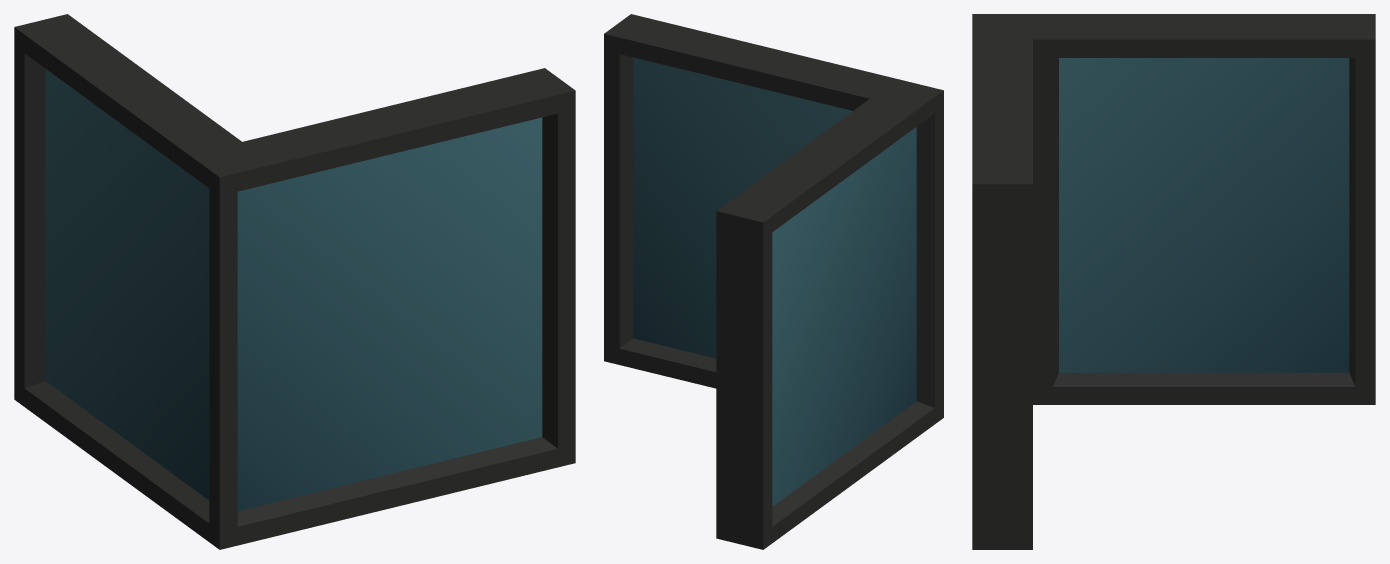
File: shortWindowDarkCorner.fbx
3 renders of one model, left to right at view 1: azimuth 30°, elevation 25°; view 2: azimuth 150°, elevation 25°; view 3: azimuth 270°, elevation 25°, orthographic. The views are drawn at different scales.
Parts seen in each view (by area): view 1: shortWindowDarkCorner; view 2: shortWindowDarkCorner; view 3: shortWindowDarkCorner.
Part boxes in pixels (x1=…): shortWindowDarkCorner: x1=14, y1=14, x2=575, y2=549; shortWindowDarkCorner: x1=604, y1=14, x2=943, y2=549; shortWindowDarkCorner: x1=972, y1=14, x2=1375, y2=549.
Size of the model in its own units: 200 by 200 by 200.
Materials: 1 (1 with a texture image).
